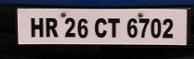0: (149, 16, 161, 38)
2: (160, 16, 175, 38), (62, 16, 75, 37)
6: (124, 16, 138, 38), (75, 17, 88, 37)
7: (137, 16, 150, 37)
C: (91, 16, 107, 37)
H: (28, 16, 45, 37)
R: (44, 16, 59, 37)
T: (106, 16, 120, 37)
